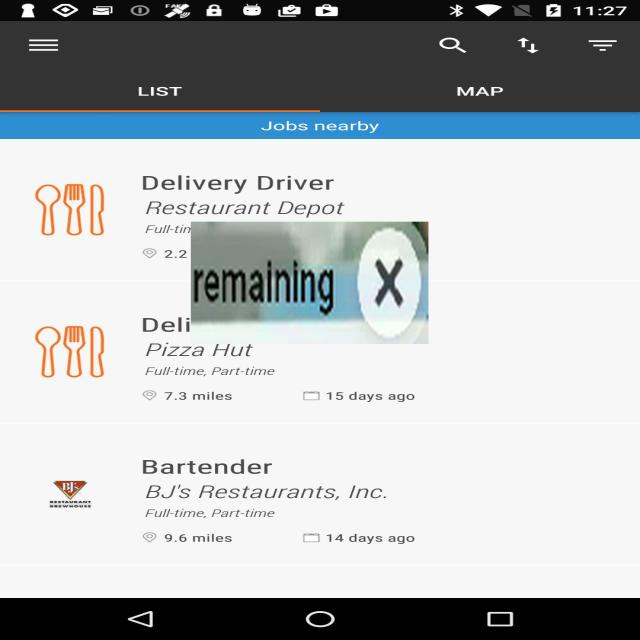misdirection: (191, 222, 428, 344)
